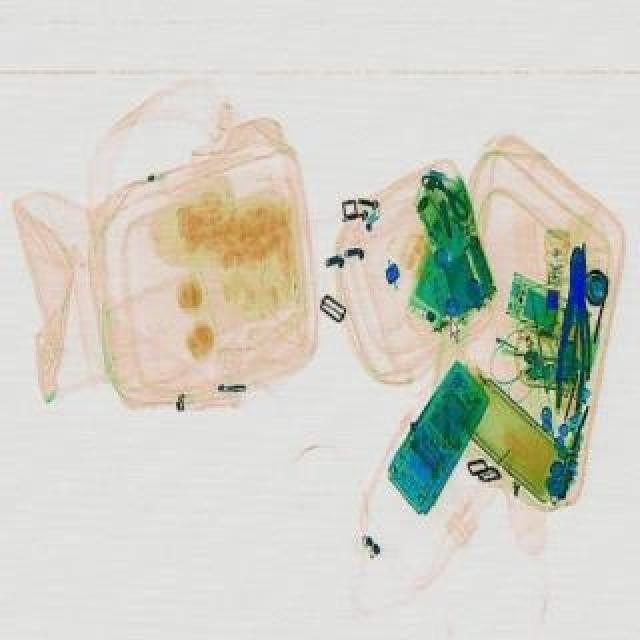wrench: (552, 242, 600, 412), (552, 246, 596, 376)
